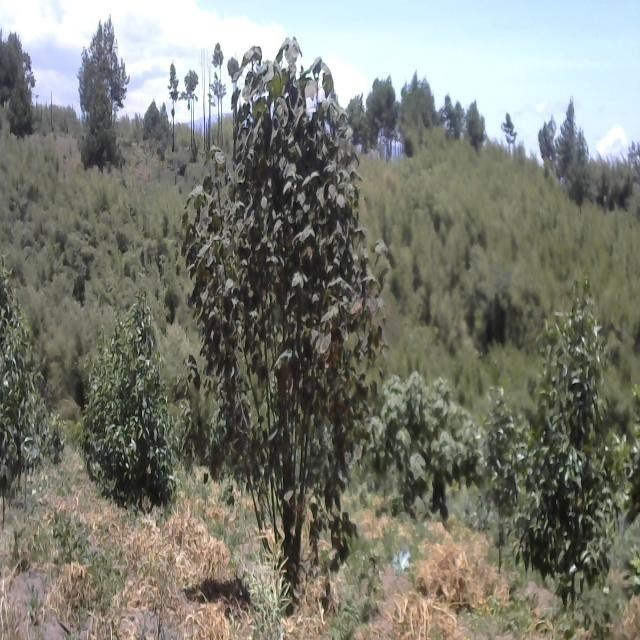Hass Avocado: (517, 283, 624, 613)
other: (190, 44, 372, 624)
